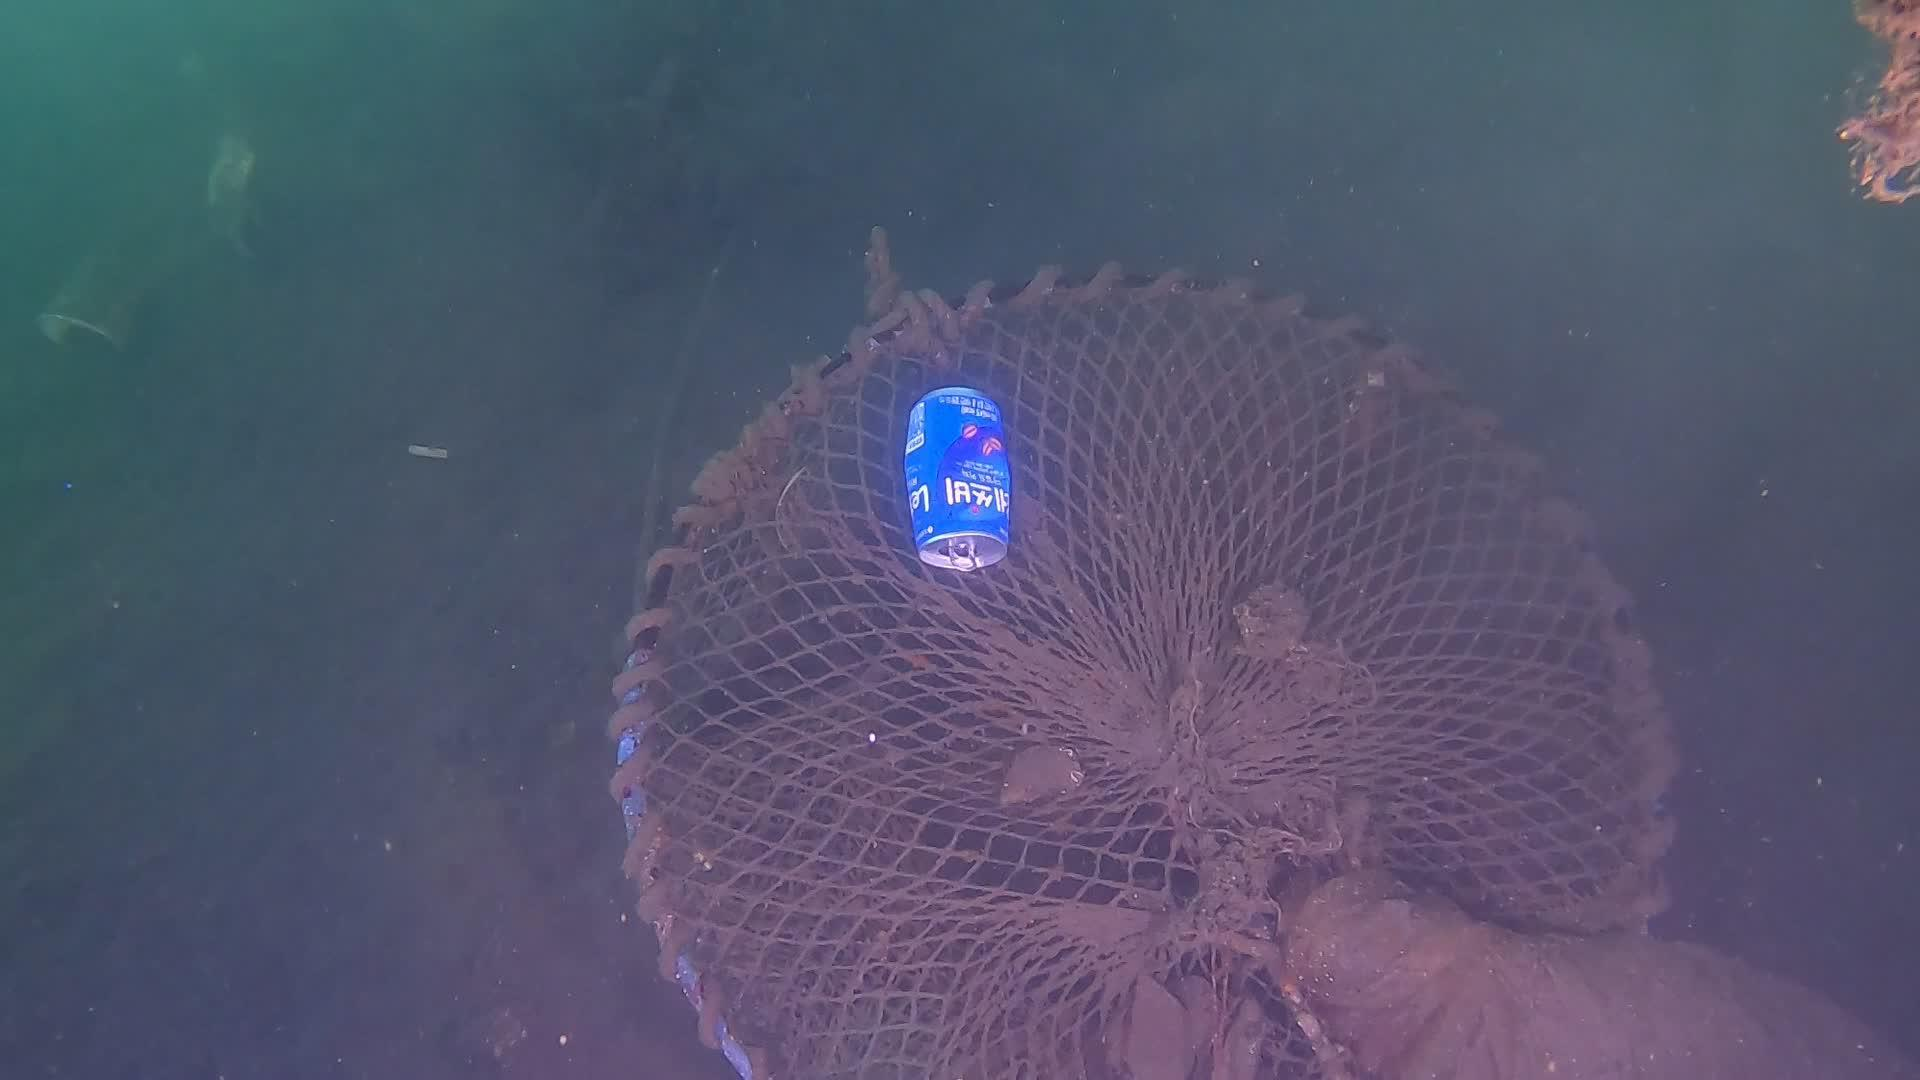circular fish trap: (603, 260, 1673, 1080)
